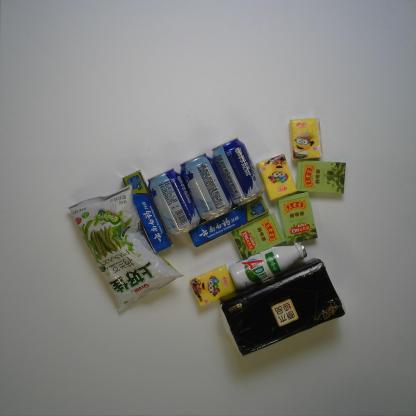Alcohol: (176, 146, 235, 224), (210, 133, 267, 206), (147, 164, 201, 238)
Candy: (230, 210, 288, 261), (276, 190, 318, 245), (294, 158, 349, 195)
Milk: (228, 239, 310, 289)
Personal Hygiene: (120, 166, 174, 255), (188, 196, 269, 247)
Puffed Food: (68, 183, 183, 315)
Tissue: (217, 257, 349, 358), (253, 154, 298, 202), (190, 264, 238, 307), (288, 116, 324, 162)
